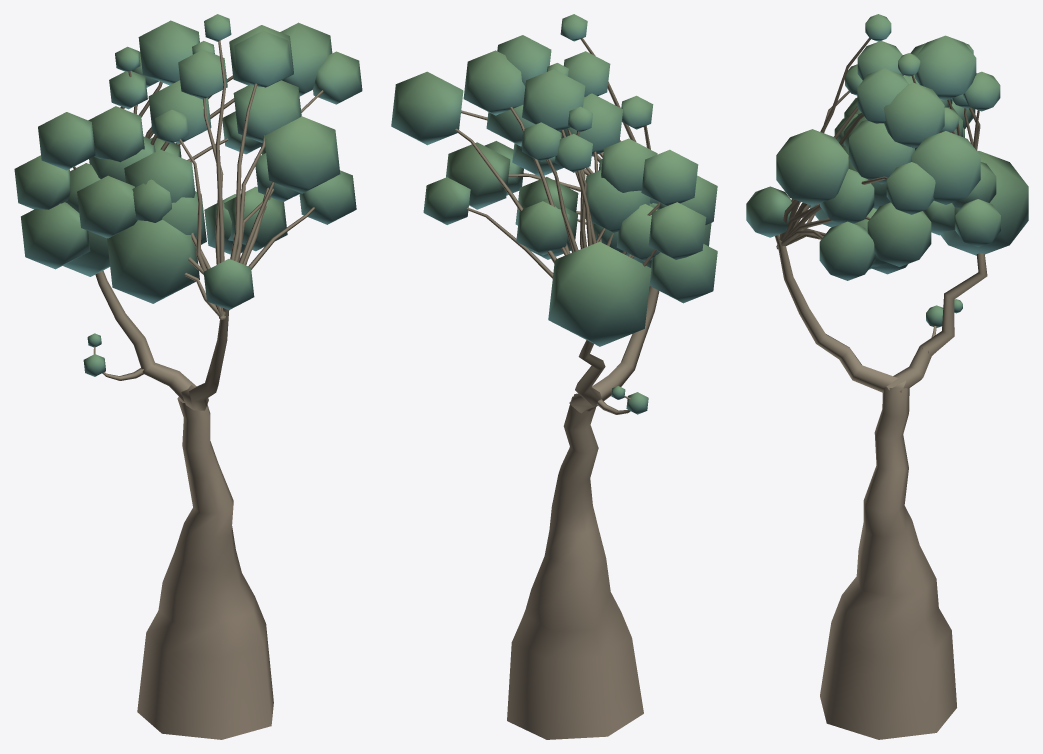
File: seed_tree_l.glb
The picture shows the model from 3 angles, left to right: view 1: azimuth 30°, elevation 25°; view 2: azimuth 150°, elevation 25°; view 3: azimuth 270°, elevation 25°; orthographic projection.
Visible parts, largest first — view 1: seed_tree_l_LOD0; view 2: seed_tree_l_LOD0; view 3: seed_tree_l_LOD0.
Part boxes in pixels (x1,y1,x2,y2): seed_tree_l_LOD0: (14,14,362,739); seed_tree_l_LOD0: (391,14,717,739); seed_tree_l_LOD0: (746,14,1028,739).
Size of what is drawn, in the model's own units: 7.34 by 15.19 by 5.56.
